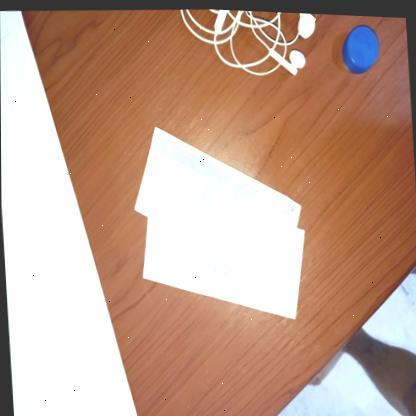ten-back-vef: (128, 115, 306, 296)
two_hundred-back-vef: (137, 206, 310, 325)
